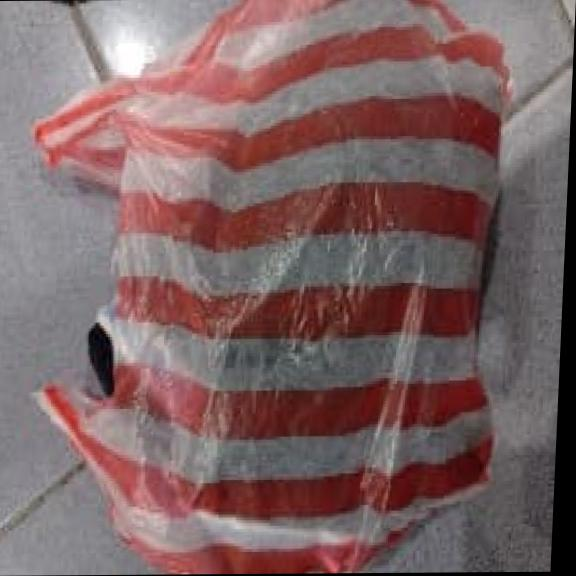Plastik: (35, 0, 503, 572)
